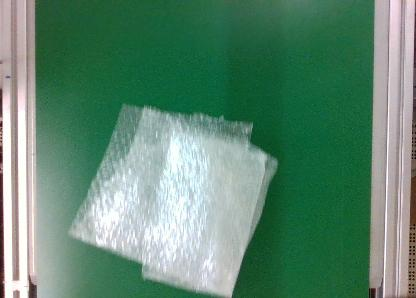Others: (68, 104, 278, 298)
